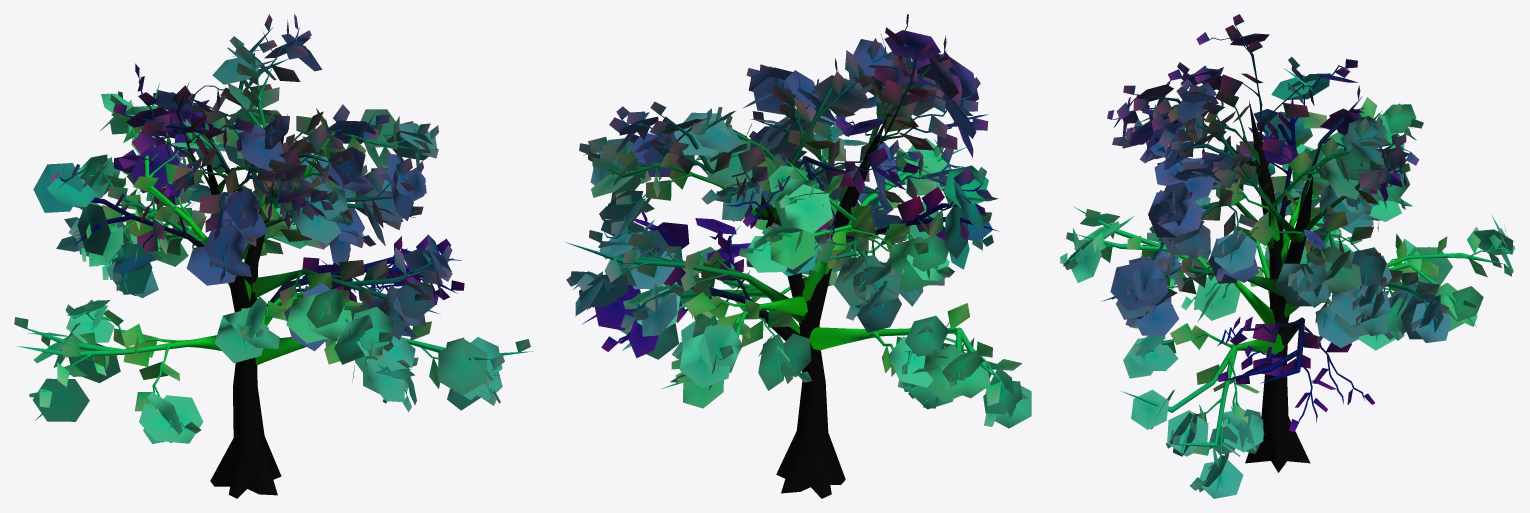
File: leaf test 2.fbx
3 renders of one model, left to right at view 1: azimuth 30°, elevation 25°; view 2: azimuth 150°, elevation 25°; view 3: azimuth 270°, elevation 25°, orthographic. The views are drawn at different scales.
Parts seen in each view (by area): view 1: leaf oak_1, _0; view 2: leaf oak_1, _0; view 3: leaf oak_1, _0.
Boxes of the visible parts, bbox=[...] form: leaf oak_1: bbox=[14, 14, 530, 443]; _0: bbox=[16, 26, 532, 498]; leaf oak_1: bbox=[566, 14, 1031, 428]; _0: bbox=[565, 26, 1012, 498]; leaf oak_1: bbox=[1060, 14, 1514, 498]; _0: bbox=[1069, 22, 1515, 491].
Bounding box in the file's own units: 1324 × 1300 × 1312.
